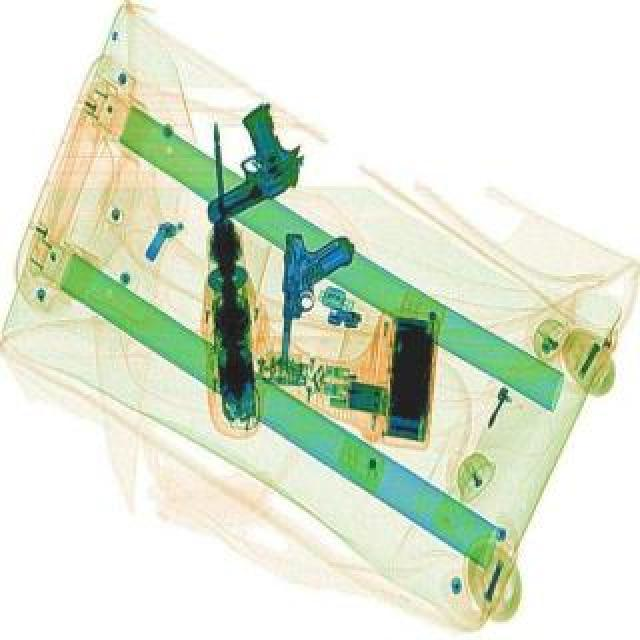gun: (170, 108, 318, 234), (272, 236, 358, 380)
